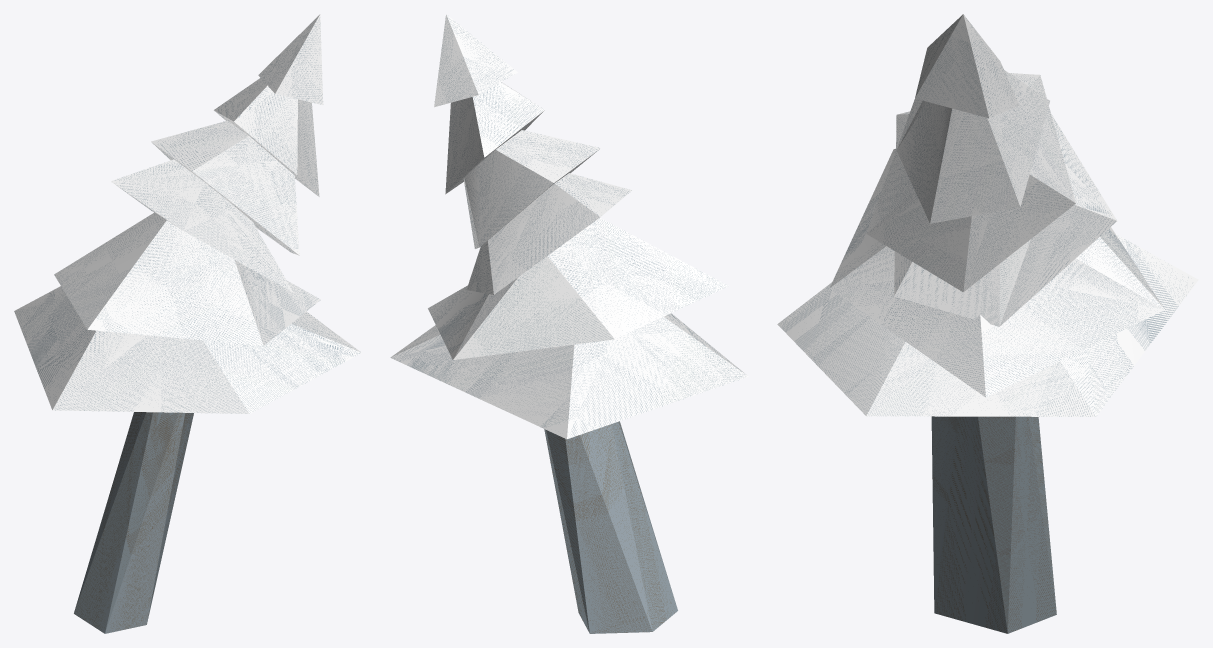
Rendered from Tree_Pine_Snow_Tall_05.fbx.
The picture shows the model from 3 angles, left to right: view 1: azimuth 30°, elevation 25°; view 2: azimuth 150°, elevation 25°; view 3: azimuth 270°, elevation 25°; orthographic projection. The views are drawn at different scales.
Parts seen in each view (by area): view 1: Model; view 2: Model; view 3: Model.
Boxes of the visible parts, box(x1,y1,x2,y2) form: Model: box(14, 14, 361, 633); Model: box(390, 14, 748, 633); Model: box(777, 14, 1198, 633).
Size of the model in its own units: 915 by 1640 by 876.
